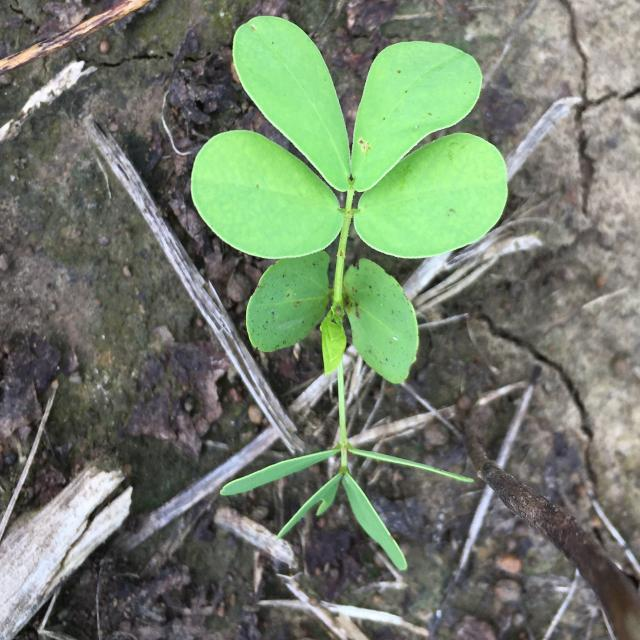Sicklepod: (191, 15, 509, 570)
